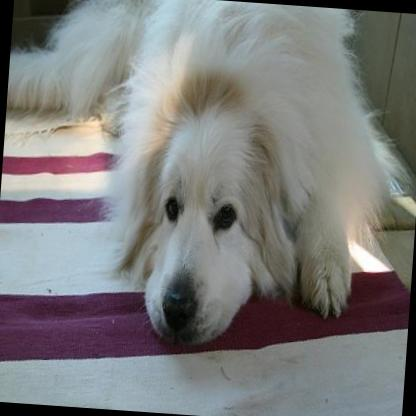Great_Pyrenees: (0, 0, 412, 359)
